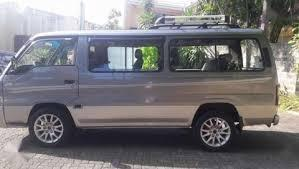van: (2, 15, 281, 154)
